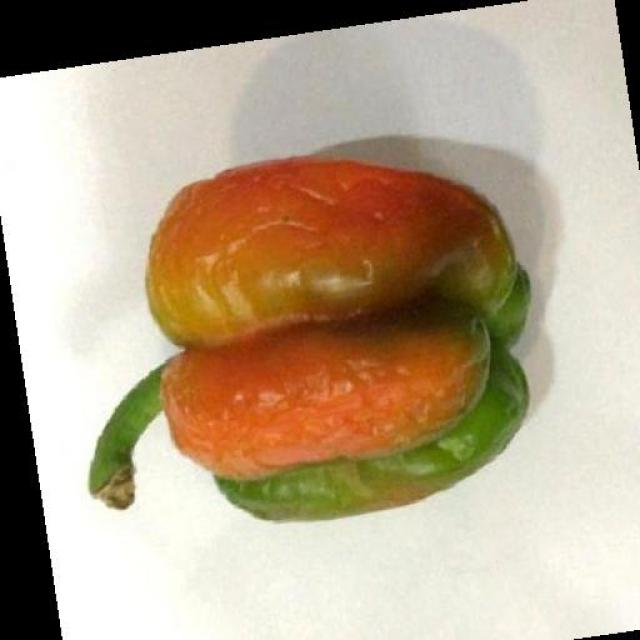Stale_Capsicum: (82, 171, 536, 522)
